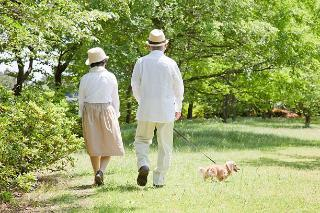person - v3 P: (72, 40, 126, 213), (136, 23, 184, 213)
